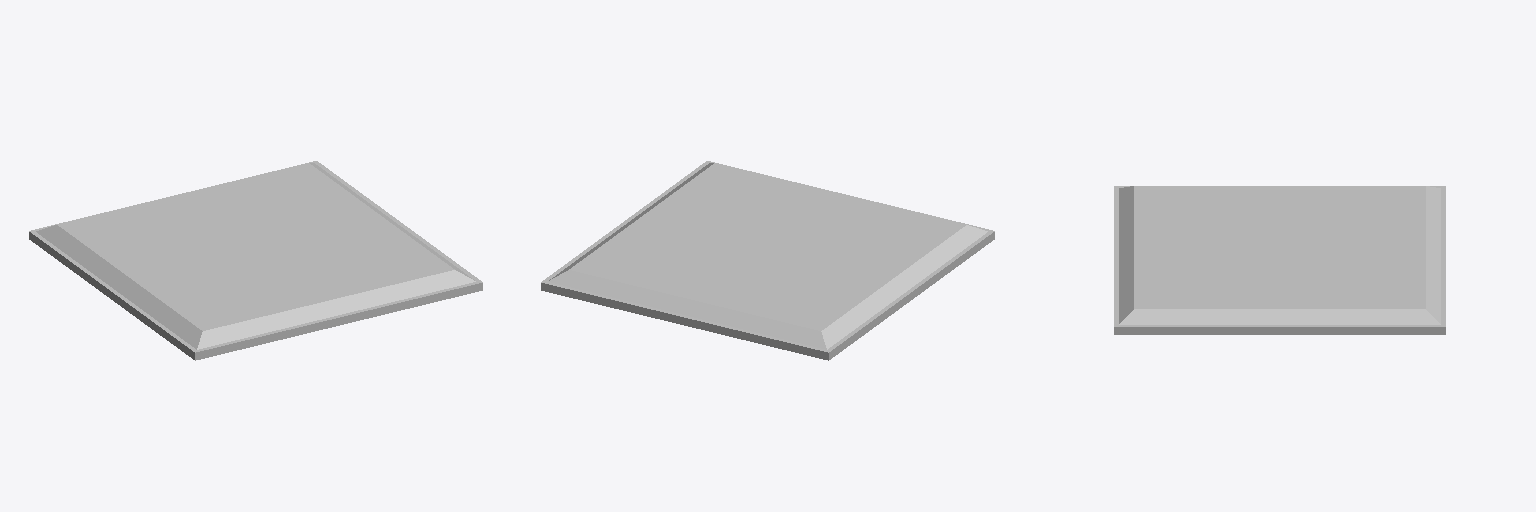
Rendered from comp_roof_1.obj.
The picture shows the model from 3 angles: view 1: azimuth 30°, elevation 25°; view 2: azimuth 150°, elevation 25°; view 3: azimuth 270°, elevation 25°; orthographic projection.
Parts seen in each view (by area): view 1: pCube3; view 2: pCube3; view 3: pCube3.
Boxes of the visible parts, x1=… form: pCube3: x1=29, y1=161, x2=482, y2=360; pCube3: x1=541, y1=161, x2=994, y2=360; pCube3: x1=1114, y1=186, x2=1445, y2=334.
Bounding box in the file's own units: 7.5 × 0.436 × 7.5.